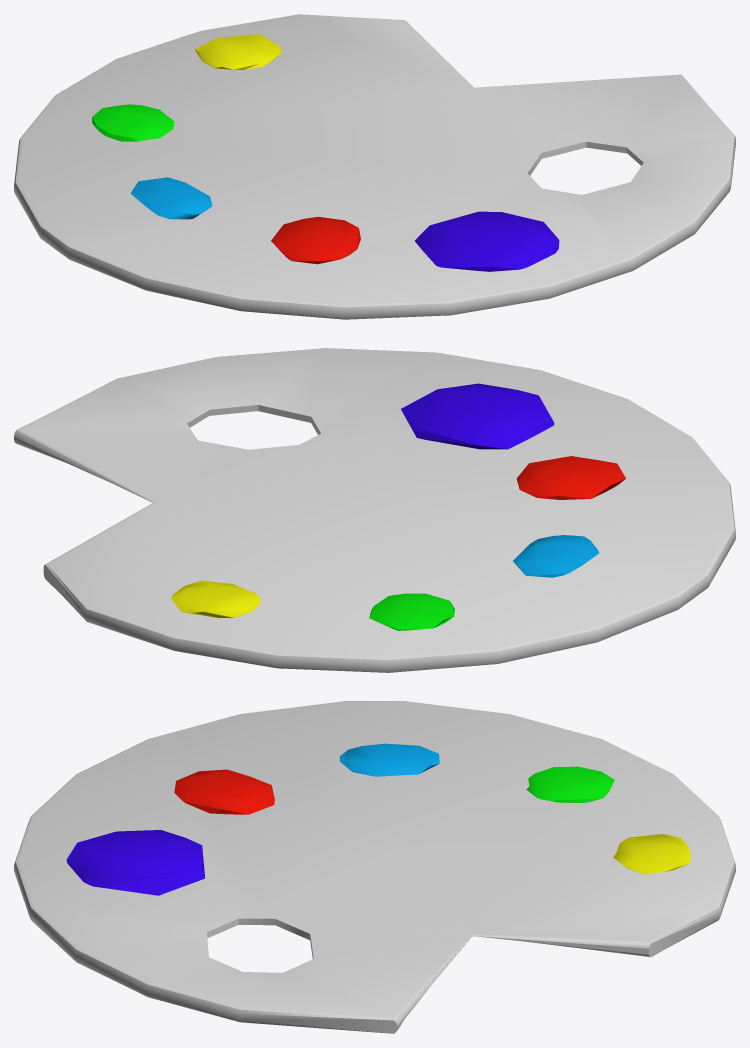
The model's file is Palitranew.fbx.
The picture shows the model from 3 angles, top to bottom: view 1: azimuth 30°, elevation 25°; view 2: azimuth 150°, elevation 25°; view 3: azimuth 270°, elevation 25°; orthographic projection. The views are drawn at different scales.
Parts seen in each view (by area): view 1: Circle; view 2: Circle; view 3: Circle.
Boxes of the visible parts, bbox=[...] form: Circle: bbox=[14, 14, 735, 319]; Circle: bbox=[14, 348, 735, 672]; Circle: bbox=[14, 701, 735, 1033].
Size of the model in its own units: 59.22 by 2.34 by 56.37.
